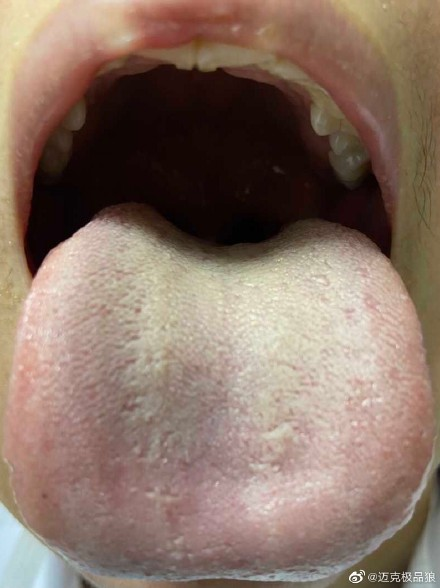baitaishe: (7, 203, 436, 582)
shenquao: (129, 204, 319, 268)
